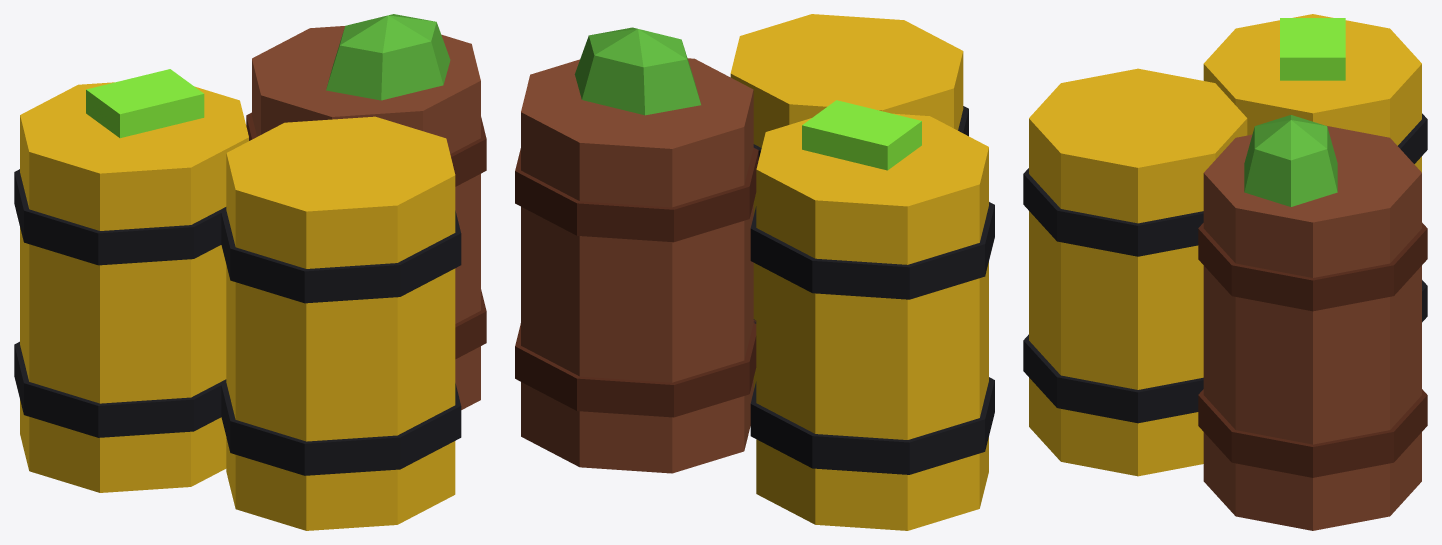
Rendered from env_r11_barrel_stack.glb.
The picture shows the model from 3 angles, left to right: view 1: azimuth 30°, elevation 25°; view 2: azimuth 150°, elevation 25°; view 3: azimuth 270°, elevation 25°; orthographic projection. The views are drawn at different scales.
Visible parts, largest first — view 1: env_r11_barrel_stack; view 2: env_r11_barrel_stack; view 3: env_r11_barrel_stack.
Boxes of the visible parts, x1,y1,x2,y2 form: env_r11_barrel_stack: (14,14,486,530); env_r11_barrel_stack: (515,14,994,530); env_r11_barrel_stack: (1023,14,1427,530).
Bounding box in the file's own units: 2 × 1.6 × 1.6.
Materials: 1 (1 with a texture image).
